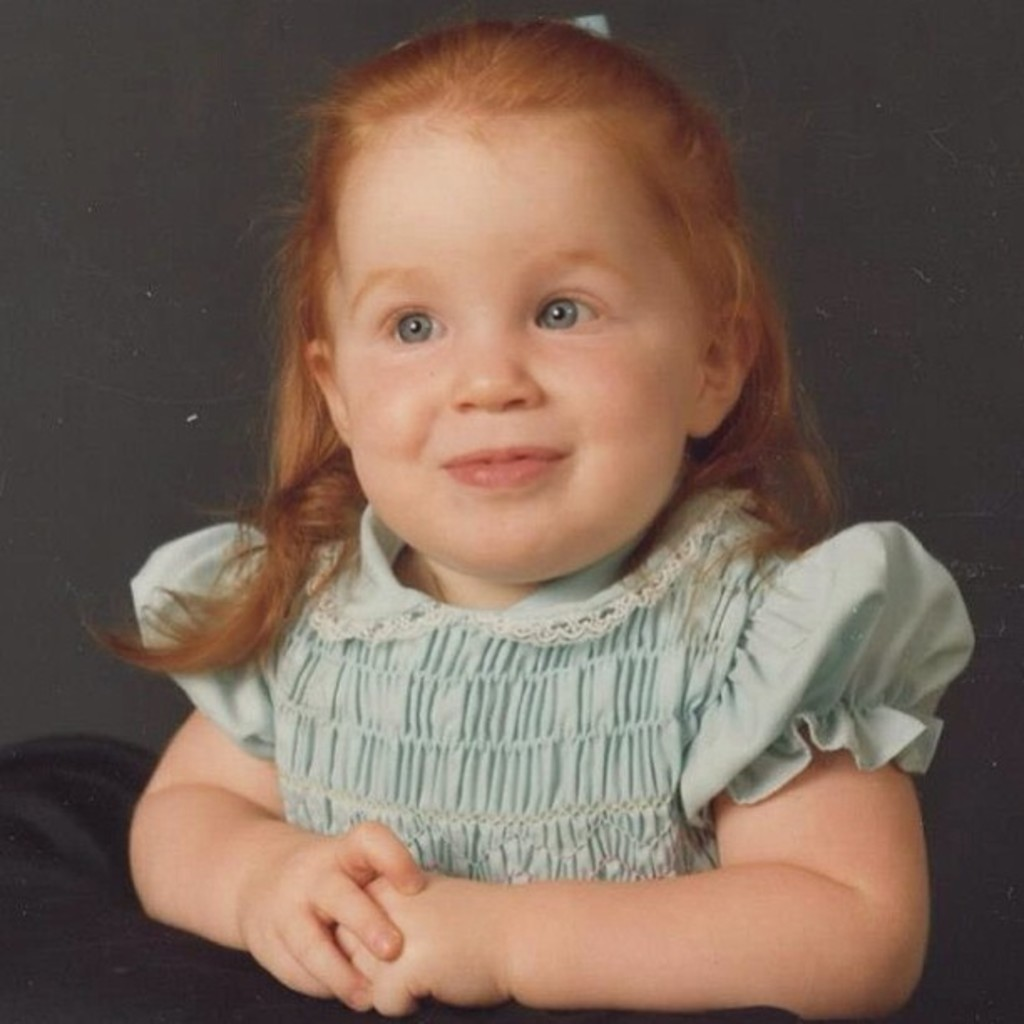Human_hand: (240, 816, 428, 1015), (335, 867, 512, 1019)
